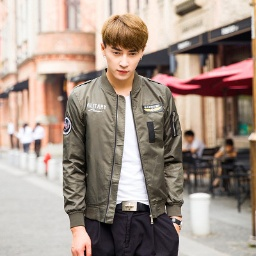face: (100, 15, 150, 81)
